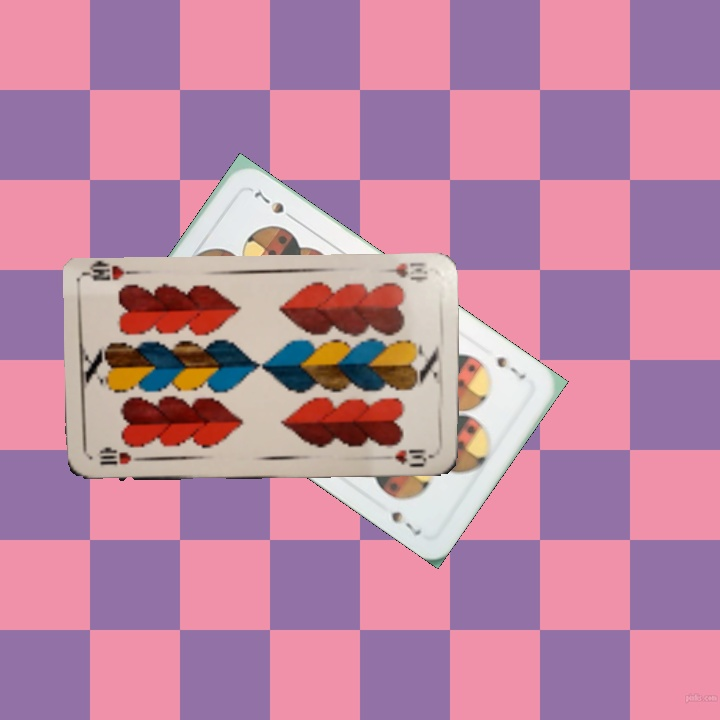H10: (375, 258, 430, 284), (96, 447, 147, 468)
S7: (490, 350, 529, 383)
